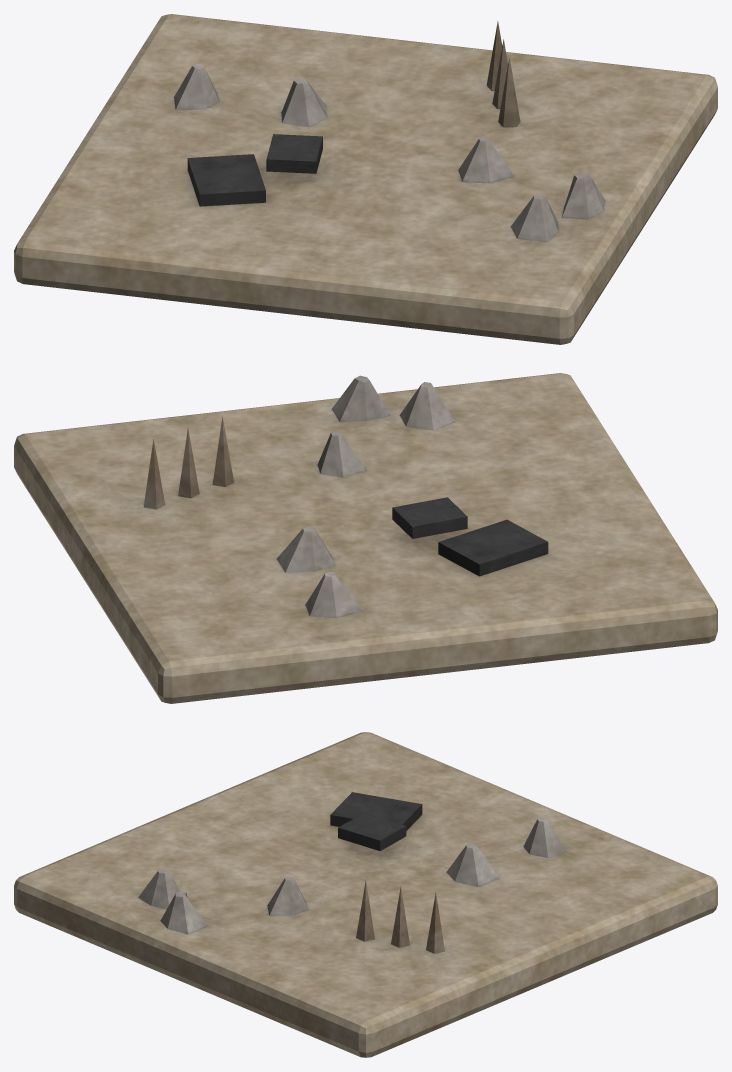
The model's file is durgar_plains.glb.
3 renders of one model, top to bottom at view 1: azimuth 30°, elevation 25°; view 2: azimuth 150°, elevation 25°; view 3: azimuth 270°, elevation 25°, orthographic. The views are drawn at different scales.
Parts seen in each view (by area): view 1: dilek; view 2: dilek; view 3: dilek.
Part boxes in pixels (x1,y1,x2,y2): dilek: (14,14,717,344); dilek: (14,373,717,703); dilek: (14,732,717,1057).
Size of the model in its own units: 2.42 by 0.36 by 2.42.
1 material, 1 textured.
